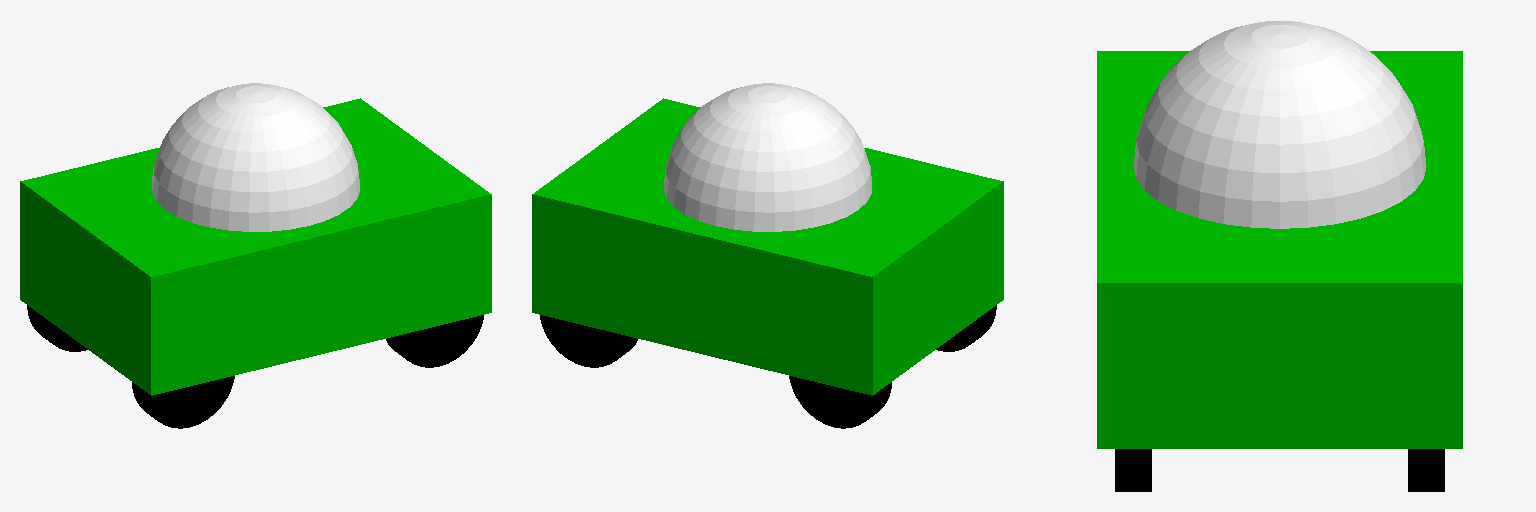
The robot description file, URDF, robot "robot1":
<?xml version="1.0" encoding="utf-8"?>
<!-- =================================================================================== -->
<!-- |    This document was autogenerated by xacro from first_robot.xacro              | -->
<!-- |    EDITING THIS FILE BY HAND IS NOT RECOMMENDED                                 | -->
<!-- =================================================================================== -->
<robot name="robot1">
  <!--A URDF (Unified Robotic Description Format) file must include the first xml version and start with a robot name.
If you are using xacro (xml+micro) to reduce the script length then, ti must include the xml name space "xacro"
represented by "xmlns:xacro". http://wiki.ros.org/urdf-->
  <!--Pre-defining material properties-->
  <material name="green">
    <color rgba="0 0.8 0 1"/>
  </material>
  <!--base_link is kind of a psuedo link which not neccessary for the
robot itself but used to avoid an KDL (Kinematic and Dynamics Libraries) error. It can be named anything.-->
  <link name="odom"/>
  <!--Start of the robot description-->
  <link name="base_link">
    <visual>
      <geometry>
        <box size="0.3 0.2 0.1"/>
      </geometry>
      <material name="green"/>
    </visual>
    <!--collision is an important tag and must be included in those links which are in contact 
with the surface. It's a good practice to define collision geometry for every link.-->
    <collision>
      <geometry>
        <box size="0.3 0.2 0.1"/>
        <!--collision geometry can be of any size-->
      </geometry>
    </collision>
    <!--inertial tag is must for simulation env.-->
    <inertial>
      <mass value="3.0"/>
      <inertia ixx="0.0225" ixy="0.0" ixz="0.0" iyy="0.005625" iyz="0.0" izz="0.028125"/>
    </inertial>
  </link>
  <!--Always define the body to psuedo link joint as fixed-->
  <joint name="base_to_world" type="fixed">
    <origin rpy="0.0 0.0 0.0" xyz="0.0 0.0 0.0"/>
    <parent link="odom"/>
    <child link="base_link"/>
  </joint>
  <material name="black">
    <color rgba="0 0 0 1"/>
  </material>
  <link name="right_front_wheel">
    <visual>
      <geometry>
        <cylinder length="0.02" radius="0.04"/>
      </geometry>
      <material name="black"/>
      <origin rpy="1.57079632679 0 0" xyz="0 0 0"/>
    </visual>
    <collision>
      <origin rpy="1.57079632679 0.0 0.0" xyz="0.0 0.0 0.0"/>
      <geometry>
        <cylinder length="0.02" radius="0.04"/>
      </geometry>
    </collision>
    <inertial>
      <mass value="0.2"/>
      <inertia ixx="0.00016" ixy="0.0" ixz="0.0" iyy="0.000087" iyz="0.0" izz="0.000087"/>
    </inertial>
  </link>
  <joint name="right_front_wheel_joint" type="continuous">
    <axis xyz="0.0 1.0 0.0"/>
    <parent link="base_link"/>
    <child link="right_front_wheel"/>
    <origin rpy="0.0 0.0 0.0" xyz="0.11 -0.08 -0.05"/>
  </joint>
  <!--gazebo tag is defined for gazebo environment. It is not neccessary for rviz. 
gazebo doesn't use the material defined for rviz therefore a different material  is also included.-->
  <gazebo reference="right_front_wheel">
    <mu1 value="200.0"/>
    <mu2 value="100.0"/>
    <kp value="10000000.0"/>
    <kd value="1.0"/>
    <material>Gazebo/Black</material>
  </gazebo>
  <!--The transmission element is an extension to the URDF robot description model 
that is used to describe the relationship between an actuator and a joint. http://wiki.ros.org/urdf/XML/Transmission-->
  <transmission name="right_front_wheel_trans">
    <type>transmission_interface/SimpleTransmission</type>
    <joint name="right_front_wheel_joint">
      <hardwareInterface>hardware_interface/VelocityJointInterface</hardwareInterface>
    </joint>
    <actuator name="right_front_wheel_motor">
      <mechanicalReduction>1.0</mechanicalReduction>
    </actuator>
  </transmission>
  <link name="right_back_wheel">
    <visual>
      <geometry>
        <cylinder length="0.02" radius="0.04"/>
      </geometry>
      <material name="black"/>
      <origin rpy="1.57079632679 0 0" xyz="0 0 0"/>
    </visual>
    <collision>
      <origin rpy="1.57079632679 0.0 0.0" xyz="0.0 0.0 0.0"/>
      <geometry>
        <cylinder length="0.02" radius="0.04"/>
      </geometry>
    </collision>
    <inertial>
      <mass value="0.2"/>
      <inertia ixx="0.00016" ixy="0.0" ixz="0.0" iyy="0.000087" iyz="0.0" izz="0.000087"/>
    </inertial>
  </link>
  <joint name="right_back_wheel_joint" type="continuous">
    <axis xyz="0.0 1.0 0.0"/>
    <parent link="base_link"/>
    <child link="right_back_wheel"/>
    <origin rpy="0.0 0.0 0.0" xyz="-0.11 -0.08 -0.05"/>
  </joint>
  <!--gazebo tag is defined for gazebo environment. It is not neccessary for rviz. 
gazebo doesn't use the material defined for rviz therefore a different material  is also included.-->
  <gazebo reference="right_back_wheel">
    <mu1 value="200.0"/>
    <mu2 value="100.0"/>
    <kp value="10000000.0"/>
    <kd value="1.0"/>
    <material>Gazebo/Black</material>
  </gazebo>
  <!--The transmission element is an extension to the URDF robot description model 
that is used to describe the relationship between an actuator and a joint. http://wiki.ros.org/urdf/XML/Transmission-->
  <transmission name="right_back_wheel_trans">
    <type>transmission_interface/SimpleTransmission</type>
    <joint name="right_back_wheel_joint">
      <hardwareInterface>hardware_interface/VelocityJointInterface</hardwareInterface>
    </joint>
    <actuator name="right_back_wheel_motor">
      <mechanicalReduction>1.0</mechanicalReduction>
    </actuator>
  </transmission>
  <link name="left_front_wheel">
    <visual>
      <geometry>
        <cylinder length="0.02" radius="0.04"/>
      </geometry>
      <material name="black"/>
      <origin rpy="1.57079632679 0 0" xyz="0 0 0"/>
    </visual>
    <collision>
      <origin rpy="1.57079632679 0.0 0.0" xyz="0.0 0.0 0.0"/>
      <geometry>
        <cylinder length="0.02" radius="0.04"/>
      </geometry>
    </collision>
    <inertial>
      <mass value="0.2"/>
      <inertia ixx="0.00016" ixy="0.0" ixz="0.0" iyy="0.000087" iyz="0.0" izz="0.000087"/>
    </inertial>
  </link>
  <joint name="left_front_wheel_joint" type="continuous">
    <axis xyz="0.0 1.0 0.0"/>
    <parent link="base_link"/>
    <child link="left_front_wheel"/>
    <origin rpy="0.0 0.0 0.0" xyz="0.11 0.08 -0.05"/>
  </joint>
  <!--gazebo tag is defined for gazebo environment. It is not neccessary for rviz. 
gazebo doesn't use the material defined for rviz therefore a different material  is also included.-->
  <gazebo reference="left_front_wheel">
    <mu1 value="200.0"/>
    <mu2 value="100.0"/>
    <kp value="10000000.0"/>
    <kd value="1.0"/>
    <material>Gazebo/Black</material>
  </gazebo>
  <!--The transmission element is an extension to the URDF robot description model 
that is used to describe the relationship between an actuator and a joint. http://wiki.ros.org/urdf/XML/Transmission-->
  <transmission name="left_front_wheel_trans">
    <type>transmission_interface/SimpleTransmission</type>
    <joint name="left_front_wheel_joint">
      <hardwareInterface>hardware_interface/VelocityJointInterface</hardwareInterface>
    </joint>
    <actuator name="left_front_wheel_motor">
      <mechanicalReduction>1.0</mechanicalReduction>
    </actuator>
  </transmission>
  <link name="left_back_wheel">
    <visual>
      <geometry>
        <cylinder length="0.02" radius="0.04"/>
      </geometry>
      <material name="black"/>
      <origin rpy="1.57079632679 0 0" xyz="0 0 0"/>
    </visual>
    <collision>
      <origin rpy="1.57079632679 0.0 0.0" xyz="0.0 0.0 0.0"/>
      <geometry>
        <cylinder length="0.02" radius="0.04"/>
      </geometry>
    </collision>
    <inertial>
      <mass value="0.2"/>
      <inertia ixx="0.00016" ixy="0.0" ixz="0.0" iyy="0.000087" iyz="0.0" izz="0.000087"/>
    </inertial>
  </link>
  <joint name="left_back_wheel_joint" type="continuous">
    <axis xyz="0.0 1.0 0.0"/>
    <parent link="base_link"/>
    <child link="left_back_wheel"/>
    <origin rpy="0.0 0.0 0.0" xyz="-0.11 0.08 -0.05"/>
  </joint>
  <!--gazebo tag is defined for gazebo environment. It is not neccessary for rviz. 
gazebo doesn't use the material defined for rviz therefore a different material  is also included.-->
  <gazebo reference="left_back_wheel">
    <mu1 value="200.0"/>
    <mu2 value="100.0"/>
    <kp value="10000000.0"/>
    <kd value="1.0"/>
    <material>Gazebo/Black</material>
  </gazebo>
  <!--The transmission element is an extension to the URDF robot description model 
that is used to describe the relationship between an actuator and a joint. http://wiki.ros.org/urdf/XML/Transmission-->
  <transmission name="left_back_wheel_trans">
    <type>transmission_interface/SimpleTransmission</type>
    <joint name="left_back_wheel_joint">
      <hardwareInterface>hardware_interface/VelocityJointInterface</hardwareInterface>
    </joint>
    <actuator name="left_back_wheel_motor">
      <mechanicalReduction>1.0</mechanicalReduction>
    </actuator>
  </transmission>
  <material name="white">
    <color rgba="1 1 1 1"/>
  </material>
  <link name="head">
    <visual>
      <geometry>
        <sphere radius="0.08"/>
      </geometry>
      <material name="white"/>
    </visual>
    <collision>
      <geometry>
        <sphere radius="0.08"/>
      </geometry>
    </collision>
    <inertial>
      <mass value="1.0"/>
      <inertia ixx="0.001" ixy="0.0" ixz="0.0" iyy="0.001" iyz="0.0" izz="0.001"/>
    </inertial>
  </link>
  <joint name="head_to_base_joint" type="continuous">
    <origin rpy="0.0 0.0 0.0" xyz="0.0 0.0 0.05"/>
    <parent link="base_link"/>
    <child link="head"/>
    <axis xyz="0.0 0.0 1.0"/>
  </joint>
  <transmission name="head_trans">
    <type>transmission_interface/SimpleTransmission</type>
    <joint name="head_to_base_joint">
      <hardwareInterface>hardware_interface/PositionJointInterface</hardwareInterface>
    </joint>
    <actuator name="head_motor">
      <mechanicalReduction>1.0</mechanicalReduction>
    </actuator>
  </transmission>
  <gazebo reference="base_link">
    <material>Gazebo/Green</material>
  </gazebo>
  <gazebo reference="head">
    <material>Gazebo/White</material>
  </gazebo>
  <gazebo>
    <plugin filename="libgazebo_ros_control.so" name="gazebo_ros_control">
    </plugin>
  </gazebo>
</robot>

--- Render facts (derived) ---
Views: 3 orthographic renders of the robot side by side, from view 1: azimuth 30°, elevation 25°; view 2: azimuth 150°, elevation 25°; view 3: azimuth 270°, elevation 25°.
Robot: robot1 — 7 links, 6 joints (5 continuous, 1 fixed); root link odom; default pose: every joint at zero.
Links seen in each view (by area): view 1: base_link, head, right_back_wheel, right_front_wheel, left_back_wheel; view 2: base_link, head, left_back_wheel, left_front_wheel, right_back_wheel; view 3: base_link, head, right_front_wheel, left_front_wheel.
Link boxes in pixels (box(x1,y1,x2,y2)): base_link: box(20, 98, 491, 395); head: box(152, 83, 359, 231); right_back_wheel: box(132, 376, 234, 428); right_front_wheel: box(386, 315, 483, 367); left_back_wheel: box(27, 305, 87, 351); base_link: box(532, 98, 1003, 395); head: box(664, 83, 871, 231); left_back_wheel: box(789, 376, 891, 428); left_front_wheel: box(540, 315, 637, 367); right_back_wheel: box(936, 305, 996, 351); base_link: box(1097, 51, 1462, 448); head: box(1133, 21, 1426, 228); right_front_wheel: box(1115, 449, 1151, 491); left_front_wheel: box(1408, 449, 1444, 491).
Size in the robot's own frame: 0.3 by 0.2 by 0.22 metres.
Geometry: primitives only (box / cylinder / sphere), no mesh files.